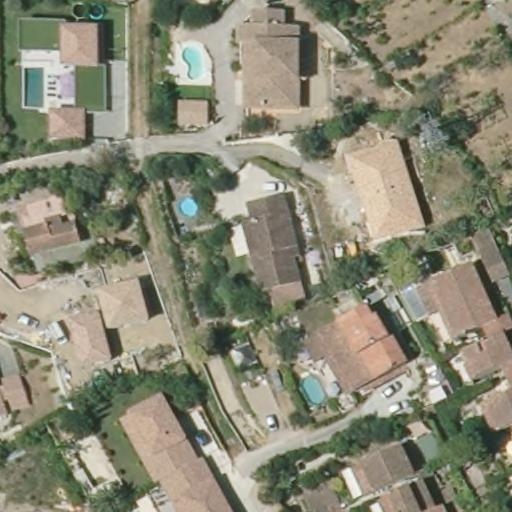pool: (20, 58, 48, 114), (296, 369, 329, 405), (178, 43, 206, 84), (175, 193, 202, 219)
